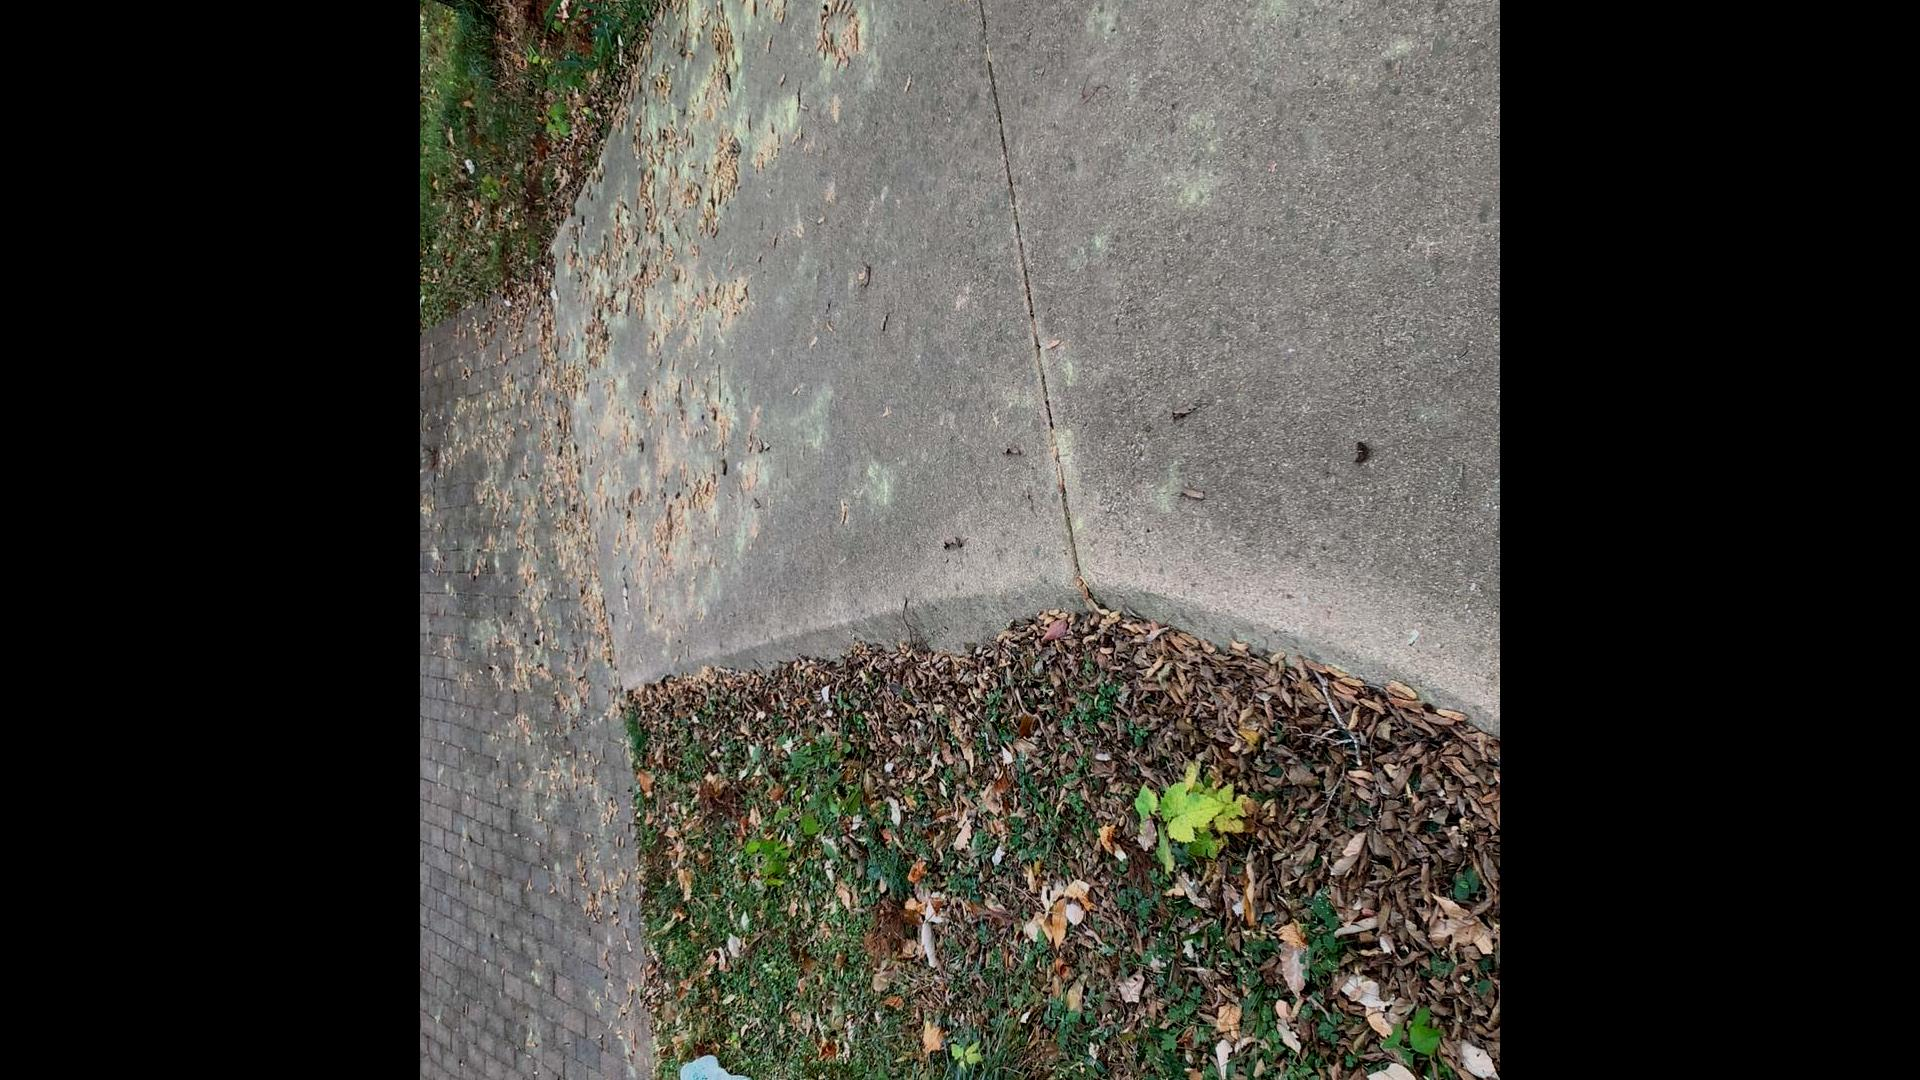white_bag: (675, 1047, 753, 1080)
